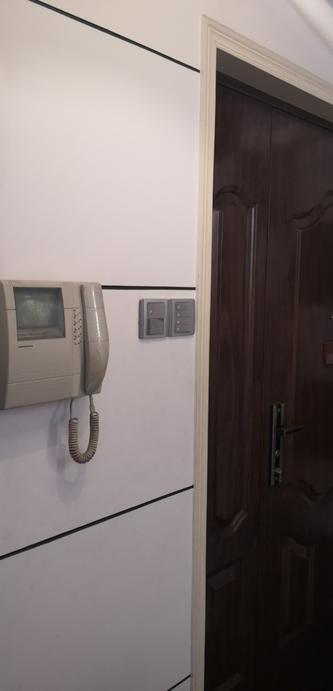switch: (184, 298, 204, 337), (139, 319, 175, 334), (140, 299, 167, 312)
